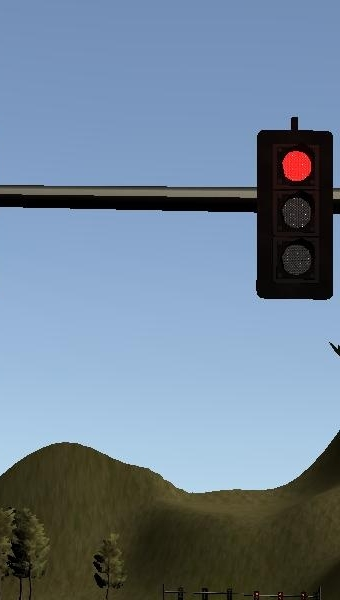Red: (258, 131, 333, 298)
